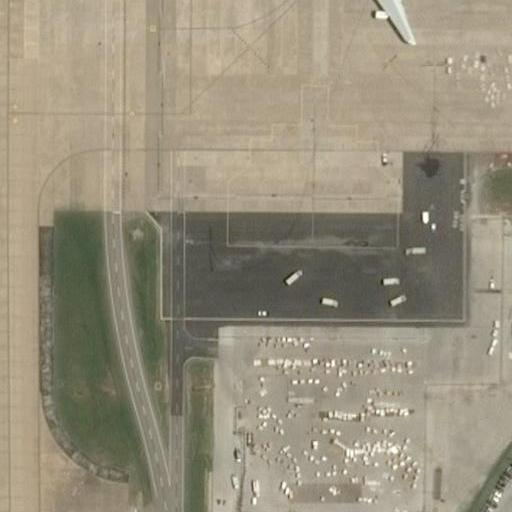Aircraft: (309, 0, 466, 46)
